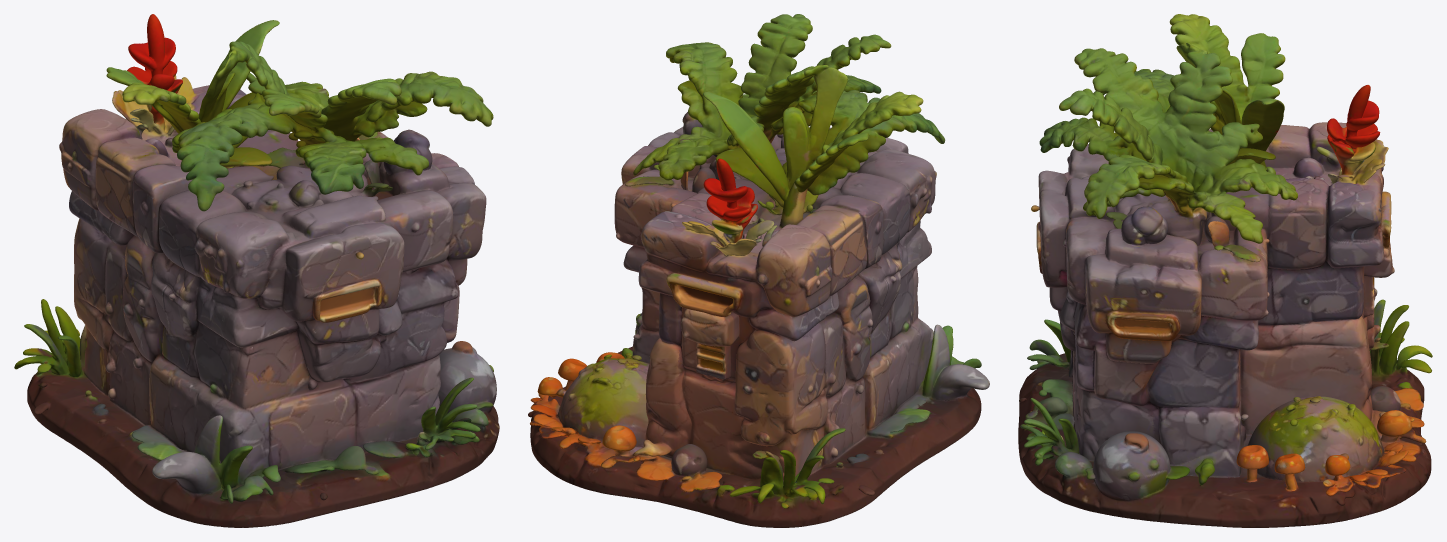
File: ground-foliage.glb
3 views of the same model, side by side, from view 1: azimuth 30°, elevation 25°; view 2: azimuth 150°, elevation 25°; view 3: azimuth 270°, elevation 25° (orthographic). The views are drawn at different scales.
Visible parts, largest first — view 1: tripo_node_94e8230c-63f3-493a-b4c7-3ba0173af22b; view 2: tripo_node_94e8230c-63f3-493a-b4c7-3ba0173af22b; view 3: tripo_node_94e8230c-63f3-493a-b4c7-3ba0173af22b.
Part boxes in pixels (left/top/right/bottom): tripo_node_94e8230c-63f3-493a-b4c7-3ba0173af22b: left=14, top=14, right=499, bottom=527; tripo_node_94e8230c-63f3-493a-b4c7-3ba0173af22b: left=528, top=14, right=989, bottom=527; tripo_node_94e8230c-63f3-493a-b4c7-3ba0173af22b: left=1018, top=14, right=1432, bottom=527.
Bounding box in the file's own units: 0.9158 × 1 × 0.9324.
Materials: 1 (1 with a texture image).
